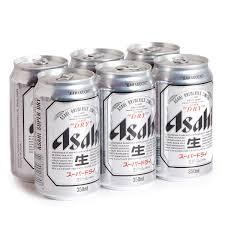beer: (10, 41, 214, 199)
